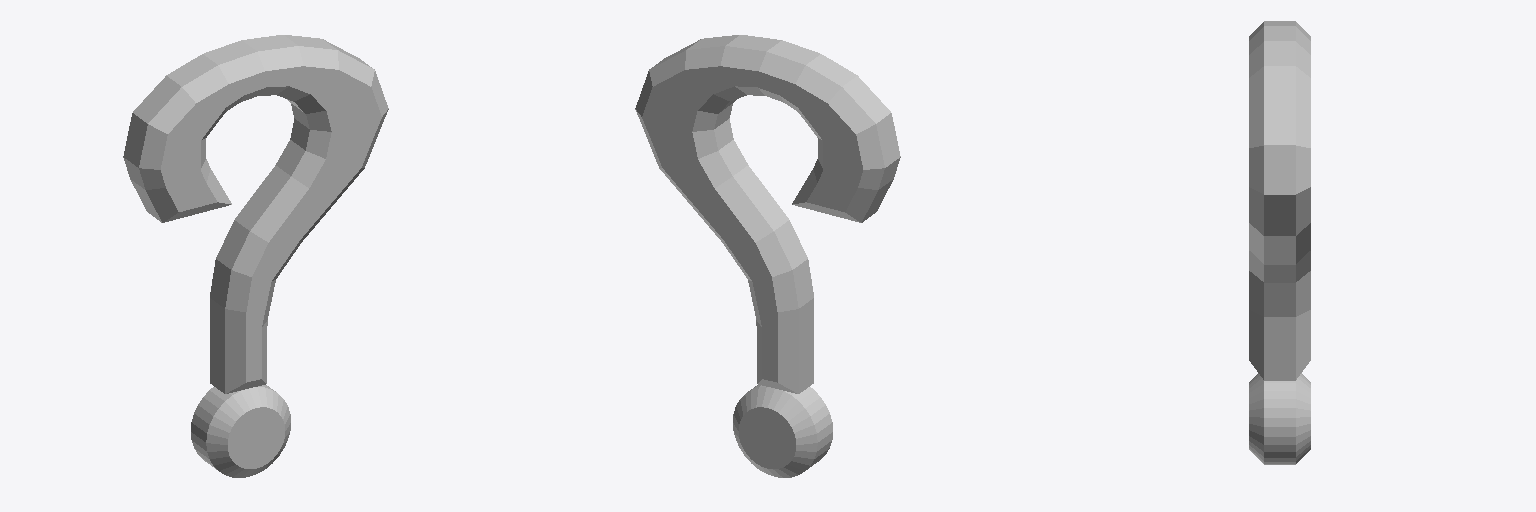
Rendered from int.obj.
3 views of the same model, side by side, from view 1: azimuth 30°, elevation 25°; view 2: azimuth 150°, elevation 25°; view 3: azimuth 270°, elevation 25° (orthographic).
Bounding box in the file's own units: 0.3707 × 0.6 × 0.08.